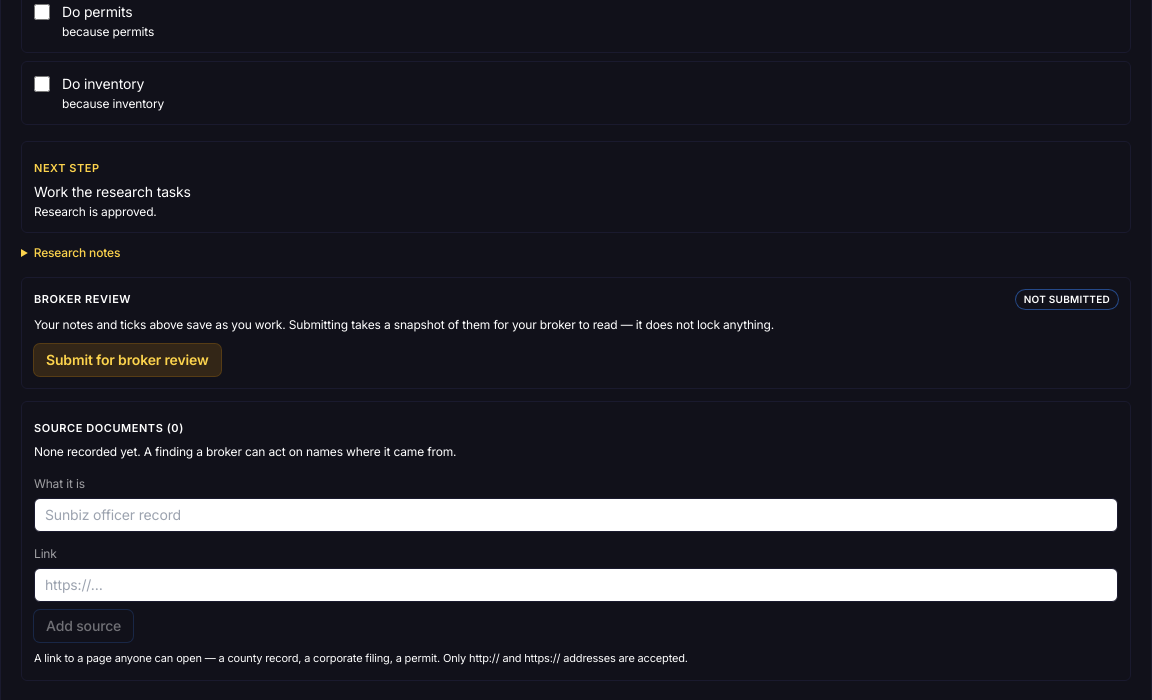
[P12A-AP-2] submitting › re-reads the state afterwards rather than claiming success
(page scrolled)
Expected: the element with test id "submission" is shown, [21,276,1131,389]
Click the button with test id "submit-research" at (127, 360), box [34,344,220,376]
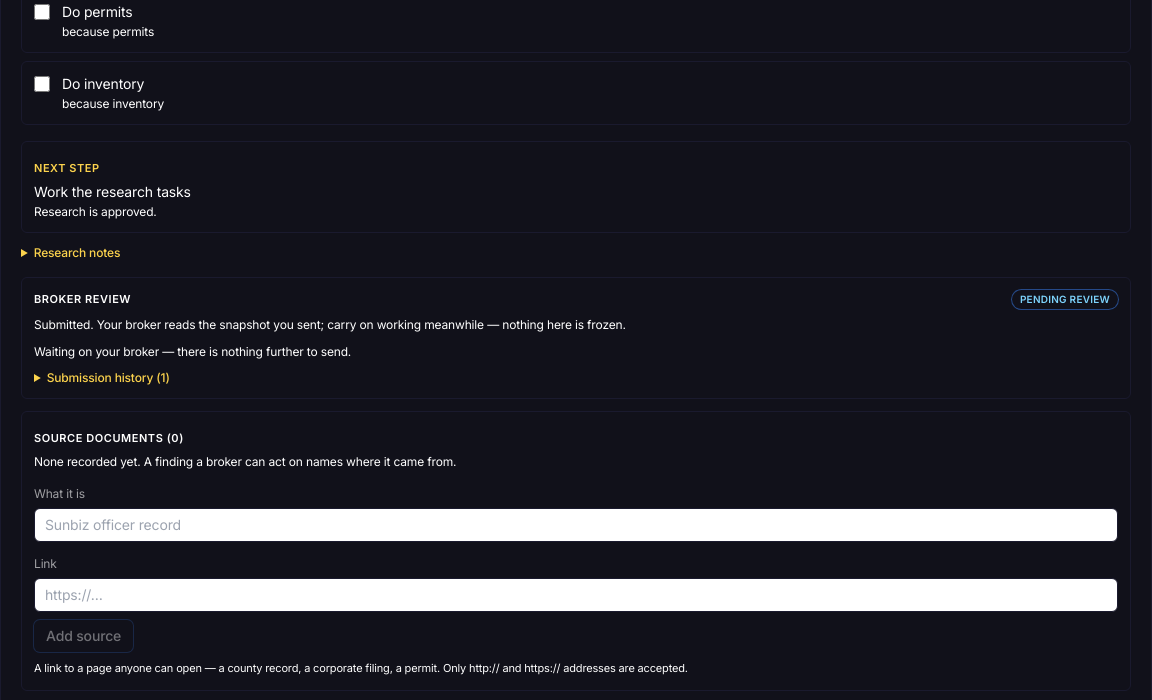
Now the text "PENDING REVIEW" is shown, box [1012,290,1118,308]
Now the button with test id "submit-research" is gone
